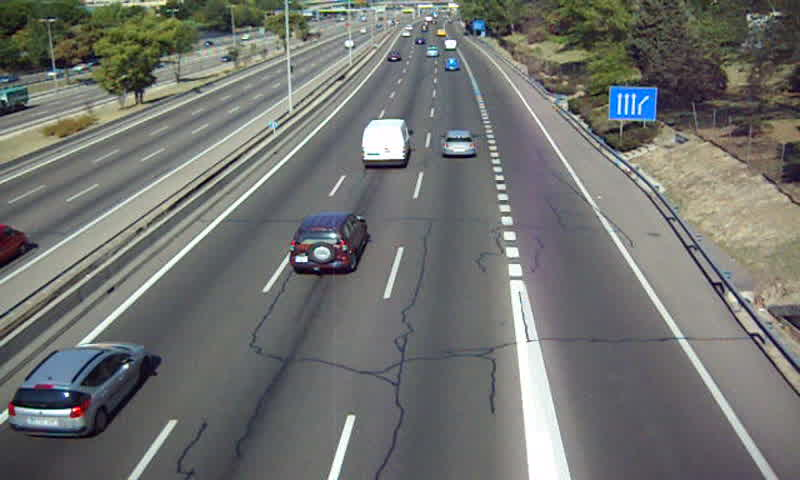car: (7, 343, 147, 436), (289, 214, 365, 273), (442, 130, 475, 158), (444, 56, 461, 73)
van: (361, 120, 411, 168)
